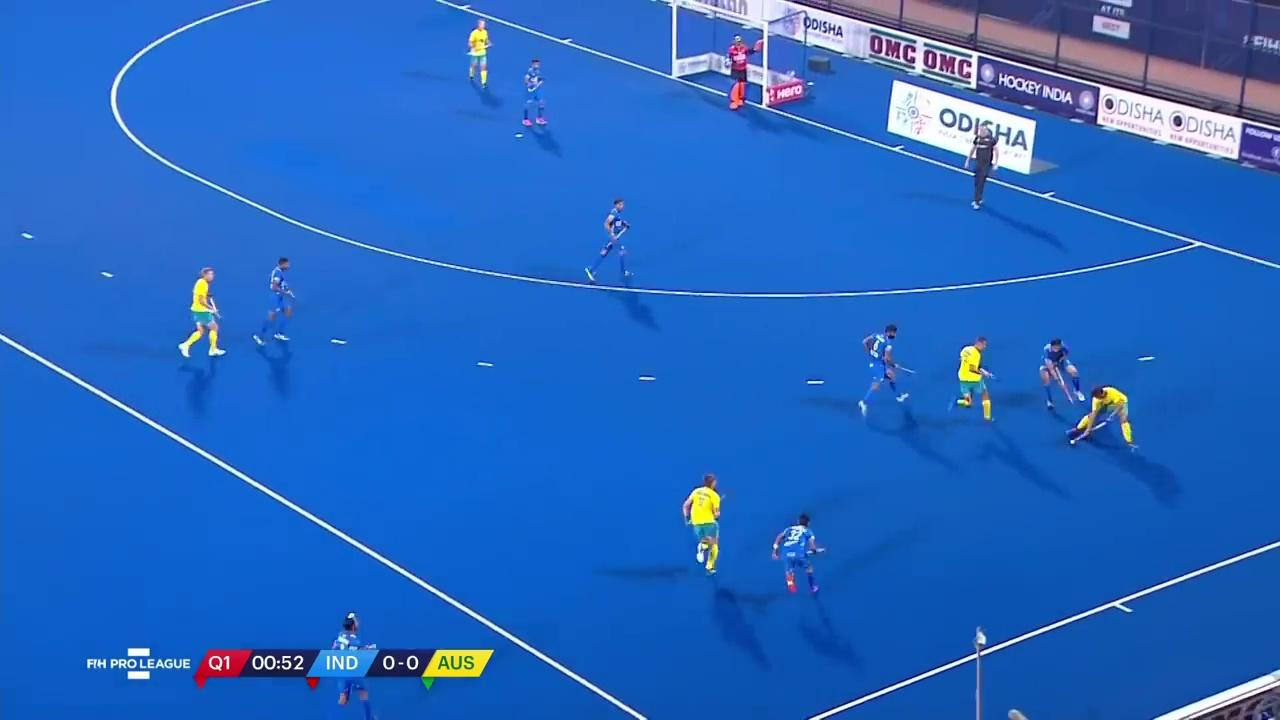ball: (1066, 434, 1082, 450)
